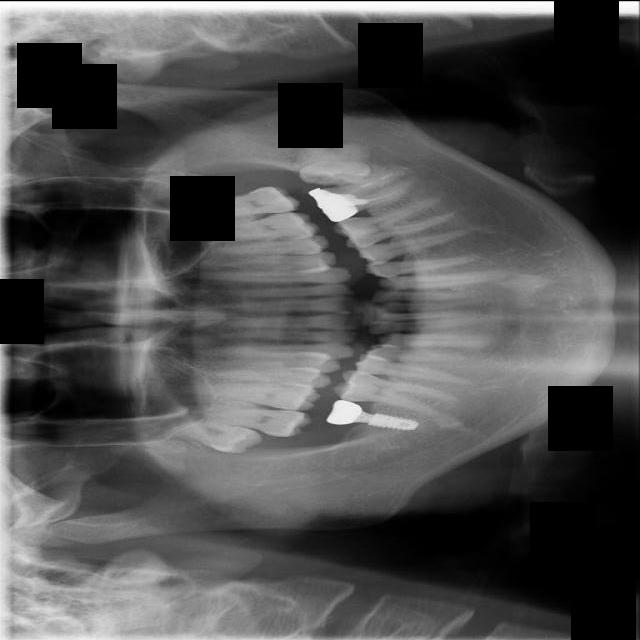3M ESPE Implant: (167, 410, 263, 459)
52: (305, 178, 358, 229), (326, 395, 364, 431)
73: (331, 162, 420, 217), (546, 54, 550, 64)
BioHorizons Implant: (190, 183, 299, 220)
Biomet 3i Implant: (299, 142, 372, 185)
Blue Sky Bio Implant: (307, 164, 419, 226)
Caries: (206, 405, 310, 438)
